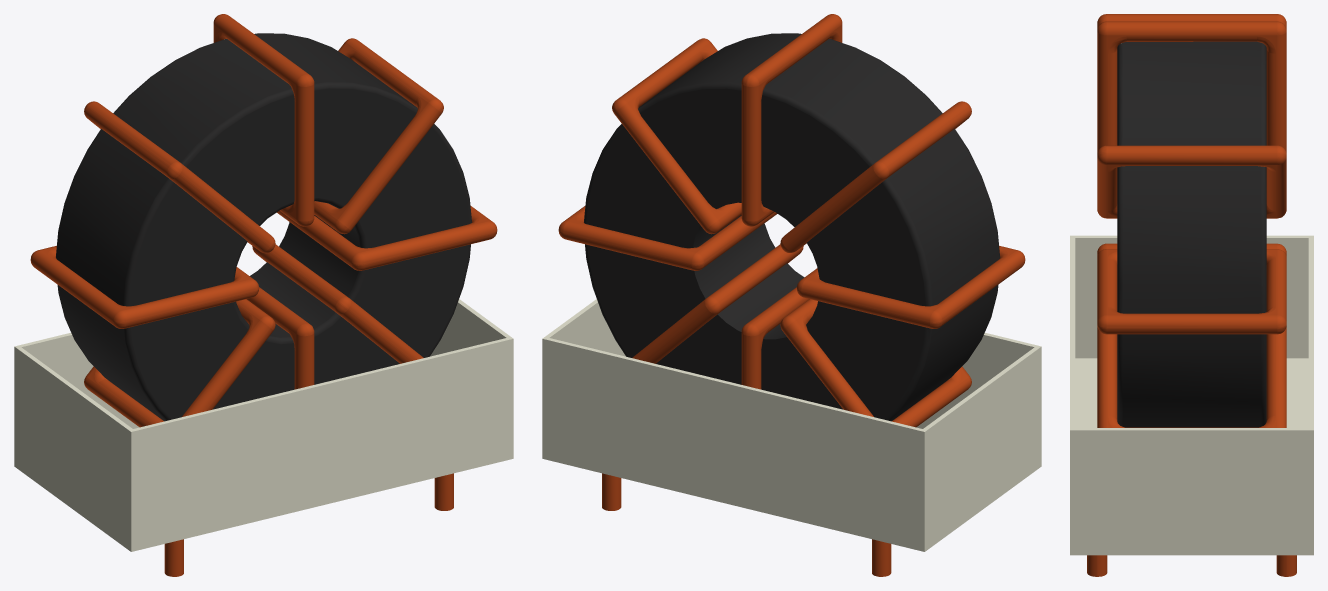
Rendered from kc-l_commonmode_toroid_vertical_l43.2mm_w22.9mm_px17.78mm_py30.48mm_bourns_8100.glb.
3 renders of one model, left to right at view 1: azimuth 30°, elevation 25°; view 2: azimuth 150°, elevation 25°; view 3: azimuth 270°, elevation 25°, orthographic. The views are drawn at different scales.
Parts seen in each view (by area): view 1: 0_0_0_0, 0.75_0.75_0.6666666666666666_0, 0.4166666666666667_0.08333333333333333_0_0; view 2: 0_0_0_0, 0.75_0.75_0.6666666666666666_0, 0.4166666666666667_0.08333333333333333_0_0; view 3: 0_0_0_0, 0.75_0.75_0.6666666666666666_0, 0.4166666666666667_0.08333333333333333_0_0.
Part boxes in pixels (bbox=[...]): 0_0_0_0: bbox=[56, 33, 471, 421]; 0.75_0.75_0.6666666666666666_0: bbox=[14, 299, 513, 551]; 0.4166666666666667_0.08333333333333333_0_0: bbox=[30, 14, 497, 576]; 0_0_0_0: bbox=[584, 33, 999, 421]; 0.75_0.75_0.6666666666666666_0: bbox=[542, 299, 1041, 551]; 0.4166666666666667_0.08333333333333333_0_0: bbox=[558, 14, 1025, 576]; 0_0_0_0: bbox=[1117, 41, 1266, 427]; 0.75_0.75_0.6666666666666666_0: bbox=[1070, 235, 1313, 555]; 0.4166666666666667_0.08333333333333333_0_0: bbox=[1087, 14, 1296, 576].
Bounding box in the file's own units: 4.32 × 4.98 × 2.29.
